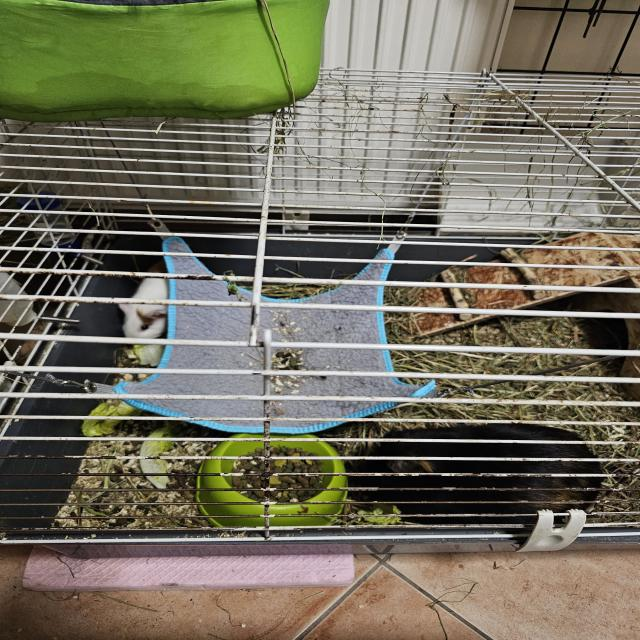guinea pig: (349, 422, 604, 528), (119, 256, 169, 350)
